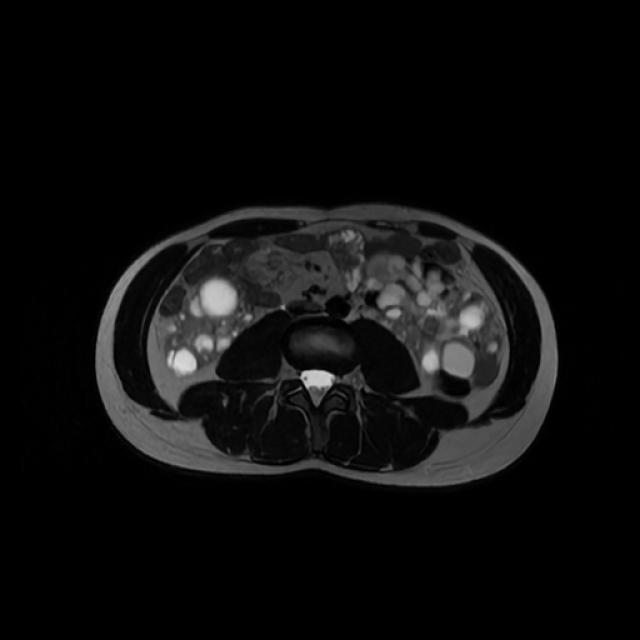sag: (162, 277, 257, 381)
sol: (362, 252, 505, 397)
